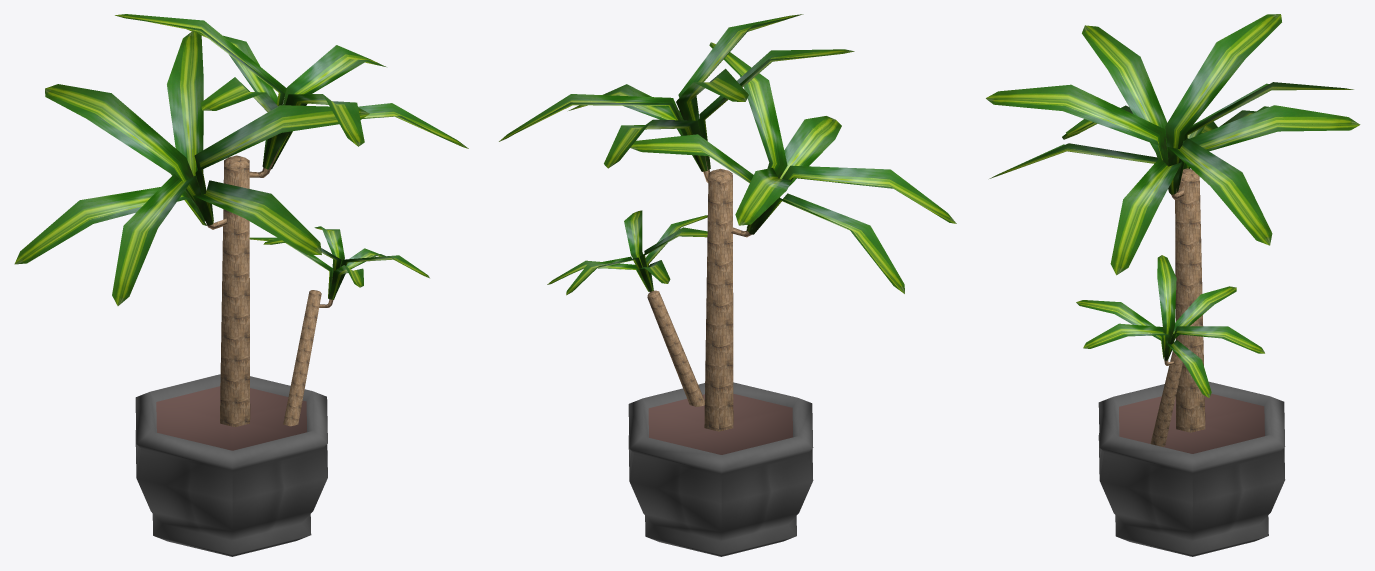
Rendered from Pool_Plant_01.fbx.
3 renders of one model, left to right at view 1: azimuth 30°, elevation 25°; view 2: azimuth 150°, elevation 25°; view 3: azimuth 270°, elevation 25°, orthographic. The views are drawn at different scales.
Visible parts, largest first — view 1: Pool_Plant_01; view 2: Pool_Plant_01; view 3: Pool_Plant_01.
Boxes of the visible parts, bbox=[...] form: Pool_Plant_01: bbox=[14, 14, 468, 556]; Pool_Plant_01: bbox=[499, 14, 956, 556]; Pool_Plant_01: bbox=[986, 14, 1360, 556].
Bounding box in the file's own units: 131 × 154 × 109.
Materials: 1 (1 with a texture image).
